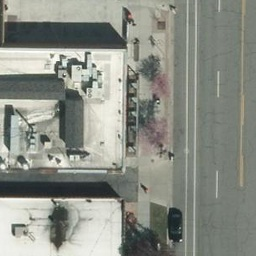car: (167, 206, 185, 241)
